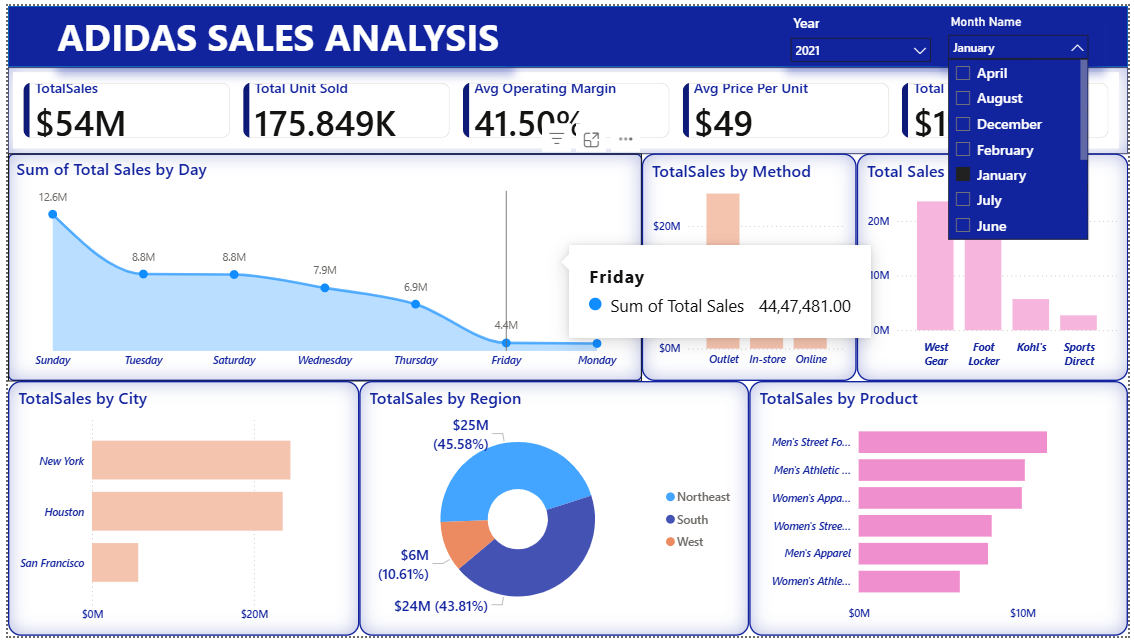

Layout of this report page (visuals, bound fields, positions):
{"tool":"powerbi","page":{"name":"Page 1","canvas":[1280,720],"ordinal":0},"visuals":[{"type":"cardVisual","fields":{"Data":["Measure.TotalSales","Measure.Total Unit Sold","Measure.Avg  Operating Margin","Measure.Avg Price Per Unit","Measure.Total Operating Margin"]},"box":[0,69.7,1280,99.5],"z":0},{"type":"lineChart","fields":{"Y":["Sum(Fact_sales_table.Total Sales)"],"Category":["Dim_Date.Day Name"]},"box":[0,168.6,725,260],"z":1000},{"type":"barChart","fields":{"Category":["Dim_Retailer.City"],"Y":["Measure.TotalSales"]},"box":[0,428.6,401.4,291.4],"z":2000},{"type":"clusteredBarChart","fields":{"Y":["Measure.TotalSales"],"Category":["Dim_Product.Product"]},"box":[847.1,429.2,432.9,291.1],"z":3000},{"type":"columnChart","fields":{"Y":["Measure.TotalSales"],"Category":["Fact_sales_table.Sales Method"]},"box":[724.5,168.2,245.5,260],"z":4000},{"type":"columnChart","fields":{"Category":["Dim_Retailer.Retailer"],"Y":["Sum(Fact_sales_table.Total Sales)"]},"box":[970,168.6,310,260],"z":5000},{"type":"donutChart","fields":{"Y":["Measure.TotalSales"],"Category":["Dim_Retailer.Region"]},"box":[401.8,429.2,445.3,291.1],"z":6000},{"type":"shape","box":[0,0,1280,69.7],"z":7000},{"type":"textbox","box":[51,0,517.5,69.7],"z":8000},{"type":"slicer","fields":{"Values":["Dim_Date.Year"]},"box":[884.5,2.5,180.4,64.7],"z":9000},{"type":"slicer","fields":{"Values":["Dim_Date.Month Name"]},"box":[1064.8,5,180.4,64.7],"z":10000}]}

Visuals, with their boxes in screenshot pixels (x1, y1, x2, y2), scaled from the page's 1280x720 canvas onto the 1134x642 screenshot:
cardVisual - Measure.TotalSales x Measure.Total Unit Sold: 0/62/1133/151
lineChart - Sum(Fact_sales_table.Total Sales) x Dim_Date.Day Name: 0/150/642/382
barChart - Dim_Retailer.City x Measure.TotalSales: 0/382/356/641
clusteredBarChart - Measure.TotalSales x Dim_Product.Product: 750/383/1133/641
columnChart - Measure.TotalSales x Fact_sales_table.Sales Method: 642/150/859/382
columnChart - Dim_Retailer.Retailer x Sum(Fact_sales_table.Total Sales): 859/150/1133/382
donutChart - Measure.TotalSales x Dim_Retailer.Region: 356/383/750/641
shape: 0/0/1133/62
textbox: 45/0/504/62
slicer - Dim_Date.Year: 784/2/943/60
slicer - Dim_Date.Month Name: 943/4/1103/62
